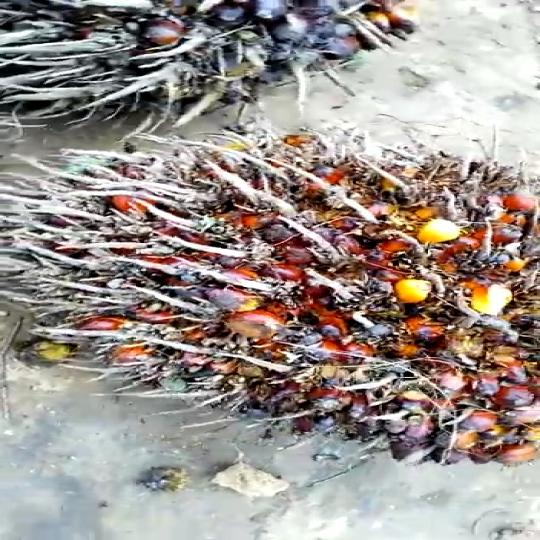terlalu masak: (0, 119, 540, 446)
